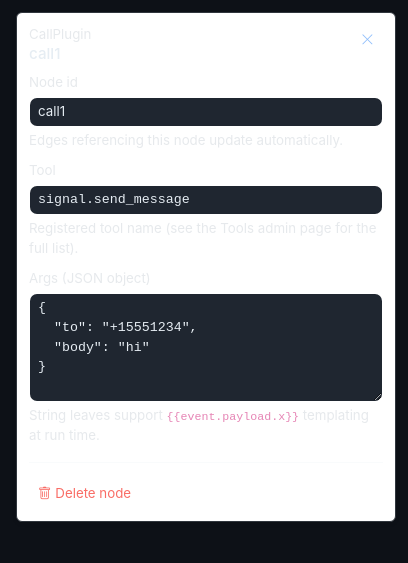
Test: AutomationNodePanel — CallPlugin form › rejects array args (must be an object, not a list)
The image size is (408, 563).
Replace the text in the text box with test id "node-panel-callplugin-args" with "[1,2,3]" at (206, 348), box x1=29 y1=293 x2=383 y2=402
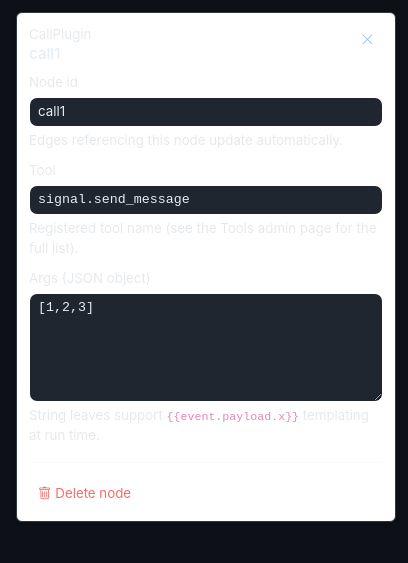
Leave the text box with test id "node-panel-callplugin-args", box x1=29 y1=293 x2=383 y2=402
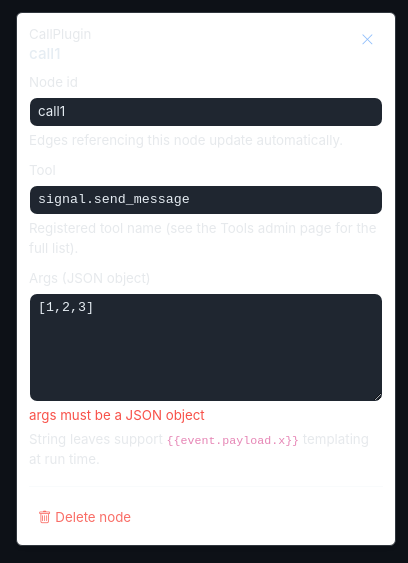
Now the text "args must be a JSON object" is shown, box x1=29 y1=407 x2=205 y2=423
